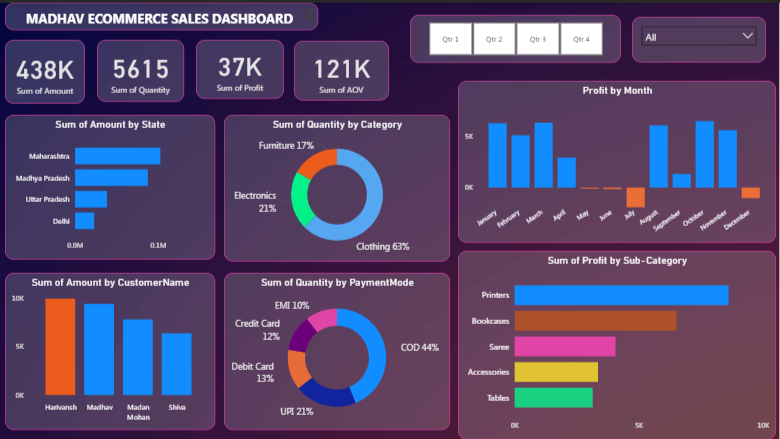

What the dashboard file says about the page in this screenshot:
{"tool":"powerbi","page":{"name":"Page 1","canvas":[1280,720],"ordinal":0},"visuals":[{"type":"textbox","box":[10.1,0,514,45.4],"z":0},{"type":"columnChart","title":"Profit by Month","fields":{"Category":["Orders_Corrected.Order Date.Variation.Date Hierarchy.Month"],"Y":["Details.Profit"]},"box":[753.2,128,521.8,265.8],"z":1000},{"type":"barChart","fields":{"Category":["Details.Sub-Category"],"Y":["Details.Profit"]},"box":[753.2,407,521.8,310.2],"z":2000},{"type":"donutChart","fields":{"Category":["Details.Category"],"Y":["Details.Quantity"]},"box":[369.2,183.8,370.9,241.2],"z":3000},{"type":"donutChart","fields":{"Category":["Details.PaymentMode","Details.Category"],"Y":["Details.Quantity"]},"box":[369.2,443.1,370.9,257.6],"z":4000},{"type":"card","fields":{"Values":["Details.Amount"]},"box":[9.8,60.7,131.3,105],"z":5000},{"type":"card","fields":{"Values":["Details.Quantity"]},"box":[160.8,60.7,142.8,101.7],"z":6000},{"type":"card","fields":{"Values":["Details.Profit"]},"box":[323.3,60.7,144.4,96.8],"z":7000},{"type":"card","fields":{"Values":["Details.AOV"]},"box":[484.1,62.4,155.9,98.5],"z":8000},{"type":"barChart","fields":{"Category":["Orders_Corrected.State","Details.Sub-Category"],"Y":["Details.Amount"]},"box":[9.8,183.8,344.6,237.9],"z":9000},{"type":"columnChart","fields":{"Category":["Orders_Corrected.CustomerName"],"Y":["Details.Amount"]},"box":[9.8,443.1,344.6,257.6],"z":10000},{"type":"slicer","fields":{"Values":["Orders_Corrected.Order Date.Variation.Date Hierarchy.Quarter"]},"box":[674.5,19.7,346.3,78.8],"z":11000},{"type":"slicer","fields":{"Values":["Orders_Corrected.State"]},"box":[1038.8,23,219.9,75.5],"z":12000}]}

Visuals, with their boxes in screenshot pixels (x1, y1, x2, y2), scaled from the page's 1280x720 canvas onto the 780x439 screenshot:
textbox: rect(6, 0, 319, 28)
"Profit by Month" columnChart: rect(459, 78, 777, 240)
barChart - Details.Sub-Category x Details.Profit: rect(459, 248, 777, 437)
donutChart - Details.Category x Details.Quantity: rect(225, 112, 451, 259)
donutChart - Details.PaymentMode x Details.Category: rect(225, 270, 451, 427)
card - Details.Amount: rect(6, 37, 86, 101)
card - Details.Quantity: rect(98, 37, 185, 99)
card - Details.Profit: rect(197, 37, 285, 96)
card - Details.AOV: rect(295, 38, 390, 98)
barChart - Orders_Corrected.State x Details.Sub-Category: rect(6, 112, 216, 257)
columnChart - Orders_Corrected.CustomerName x Details.Amount: rect(6, 270, 216, 427)
slicer - Orders_Corrected.Order Date.Variation.Date Hierarchy.Quarter: rect(411, 12, 622, 60)
slicer - Orders_Corrected.State: rect(633, 14, 767, 60)
